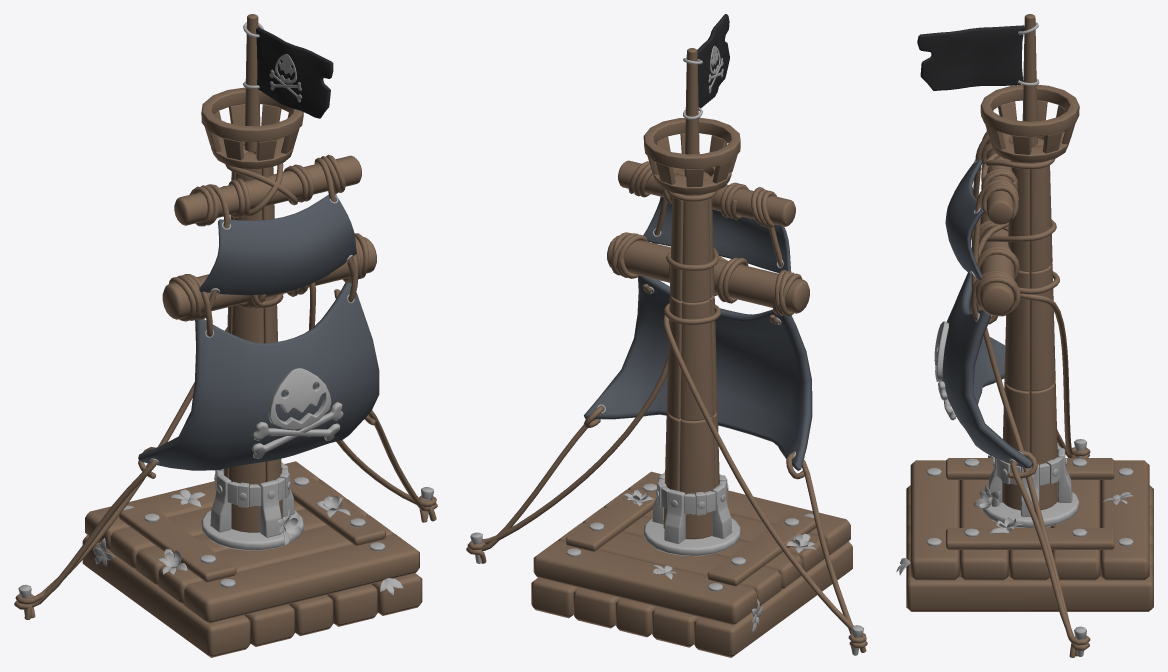
Rendered from JollyRoger.fbx.
3 views of the same model, side by side, from view 1: azimuth 30°, elevation 25°; view 2: azimuth 150°, elevation 25°; view 3: azimuth 270°, elevation 25° (orthographic). The views are drawn at different scales.
Parts seen in each view (by area): view 1: S_JollyRoger2, S_JollyRoger1, M_JollyRoger11, M_JollyRoger4, S_JollyRoger20, S_JollyRoger6, M_JollyRoger10, M_JollyRoger9, S_JollyRoger8, S_JollyRoger10, S_JollyRoger5, S_JollyRoger16 (+20 smaller); view 2: S_JollyRoger2, M_JollyRoger7, S_JollyRoger5, M_JollyRoger4, M_JollyRoger1, S_JollyRoger1, M_JollyRoger22, M_JollyRoger5, M_JollyRoger19, S_JollyRoger8, S_JollyRoger16, S_JollyRoger10 (+24 smaller); view 3: M_JollyRoger3, S_JollyRoger2, S_JollyRoger20, M_JollyRoger11, M_JollyRoger7, S_JollyRoger5, M_JollyRoger25, S_JollyRoger16, M_JollyRoger9, M_JollyRoger5, M_JollyRoger23, S_JollyRoger1 (+19 smaller).
Part boxes in pixels (bbox=[...]): S_JollyRoger2: bbox=[138, 282, 379, 470]; S_JollyRoger1: bbox=[199, 192, 356, 295]; M_JollyRoger11: bbox=[184, 534, 419, 623]; M_JollyRoger4: bbox=[82, 535, 250, 657]; S_JollyRoger20: bbox=[256, 27, 333, 118]; S_JollyRoger6: bbox=[251, 368, 343, 458]; M_JollyRoger10: bbox=[174, 155, 361, 225]; M_JollyRoger9: bbox=[158, 515, 394, 604]; S_JollyRoger8: bbox=[210, 462, 294, 537]; S_JollyRoger10: bbox=[119, 504, 236, 582]; S_JollyRoger5: bbox=[15, 282, 436, 619]; S_JollyRoger16: bbox=[201, 87, 303, 142]; S_JollyRoger2: bbox=[584, 275, 812, 470]; M_JollyRoger7: bbox=[533, 540, 756, 625]; S_JollyRoger5: bbox=[467, 248, 866, 652]; M_JollyRoger4: bbox=[694, 541, 852, 657]; M_JollyRoger1: bbox=[607, 235, 809, 313]; S_JollyRoger1: bbox=[643, 197, 791, 272]; M_JollyRoger22: bbox=[680, 299, 712, 421]; M_JollyRoger5: bbox=[558, 522, 781, 607]; M_JollyRoger19: bbox=[679, 417, 714, 539]; S_JollyRoger8: bbox=[652, 472, 732, 544]; S_JollyRoger16: bbox=[643, 117, 740, 169]; S_JollyRoger10: bbox=[707, 512, 816, 586]; M_JollyRoger3: bbox=[906, 565, 1153, 611]; S_JollyRoger2: bbox=[942, 272, 1032, 468]; S_JollyRoger20: bbox=[917, 25, 1024, 90]; M_JollyRoger11: bbox=[910, 460, 959, 580]; M_JollyRoger7: bbox=[1100, 460, 1149, 580]; S_JollyRoger5: bbox=[972, 219, 1090, 657]; M_JollyRoger25: bbox=[946, 528, 1114, 549]; S_JollyRoger16: bbox=[980, 85, 1079, 136]; M_JollyRoger9: bbox=[959, 480, 1008, 580]; M_JollyRoger5: bbox=[1051, 480, 1100, 580]; M_JollyRoger23: bbox=[1030, 265, 1055, 391]; S_JollyRoger1: bbox=[945, 158, 984, 279].
Size of the model in its own units: 580 by 754 by 321.
